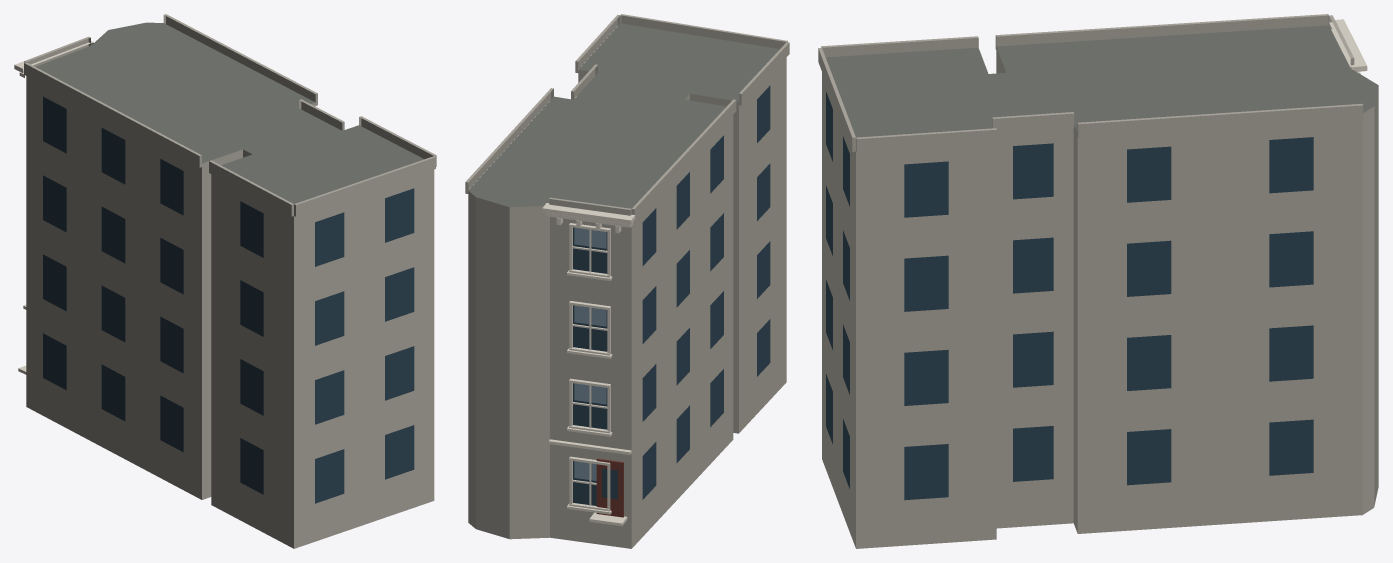
3 views of the same model, side by side, from view 1: azimuth 30°, elevation 25°; view 2: azimuth 150°, elevation 25°; view 3: azimuth 270°, elevation 25° (orthographic). The views are drawn at different scales.
Visible parts, largest first — view 1: Footprint 0 / surface 2, Footprint 0 / surface 1, Inset glazing, Facade bay volumes; view 2: Footprint 0 / surface 2, Footprint 0 / surface 1, Inset glazing, Facade bay volumes, Cornices and window frames, Sky reflection panels, Storefronts and doors; view 3: Footprint 0 / surface 2, Inset glazing, Footprint 0 / surface 1, Facade bay volumes, Cornices and window frames.
Part boxes in pixels (x1=…): Footprint 0 / surface 2: x1=26, y1=76, x2=434, y2=548; Footprint 0 / surface 1: x1=36, y1=22, x2=424, y2=203; Inset glazing: x1=43, y1=96, x2=414, y2=503; Facade bay volumes: x1=24, y1=14, x2=436, y2=216; Footprint 0 / surface 2: x1=468, y1=57, x2=786, y2=548; Footprint 0 / surface 1: x1=468, y1=23, x2=779, y2=208; Inset glazing: x1=573, y1=85, x2=770, y2=505; Facade bay volumes: x1=465, y1=14, x2=789, y2=220; Cornices and window frames: x1=542, y1=203, x2=635, y2=526; Sky reflection panels: x1=574, y1=227, x2=606, y2=480; Storefronts and doors: x1=596, y1=458, x2=623, y2=517; Footprint 0 / surface 2: x1=822, y1=47, x2=1378, y2=548; Inset glazing: x1=826, y1=91, x2=1313, y2=500; Footprint 0 / surface 1: x1=825, y1=25, x2=1378, y2=137; Facade bay volumes: x1=818, y1=14, x2=1363, y2=152; Cornices and window frames: x1=1329, y1=19, x2=1367, y2=73.
Bounding box in the file's own units: 9.7 × 14.66 × 18.09.
